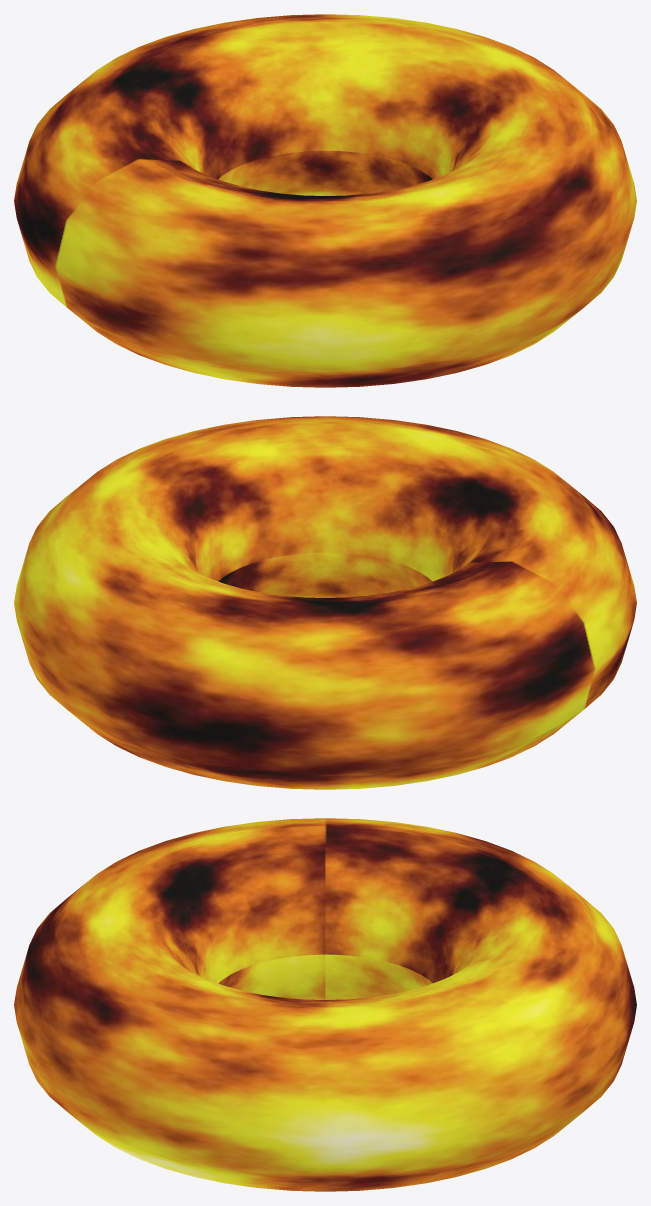
The picture shows the model from 3 angles, top to bottom: view 1: azimuth 30°, elevation 25°; view 2: azimuth 150°, elevation 25°; view 3: azimuth 270°, elevation 25°; orthographic projection.
Visible parts, largest first — view 1: Circle; view 2: Circle; view 3: Circle.
Boxes of the visible parts, box(x1,y1,x2,y2) form: Circle: box(14, 14, 636, 387); Circle: box(14, 416, 636, 789); Circle: box(14, 818, 636, 1191).
Size of the model in its own units: 2.89 by 0.8938 by 2.89.
1 material, 1 textured.
